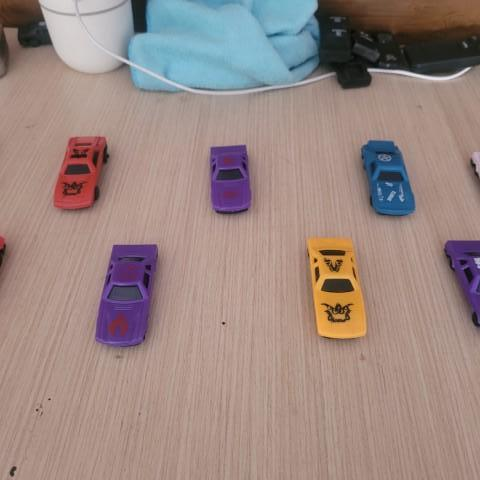car: (92, 241, 161, 352), (303, 232, 371, 344), (50, 131, 110, 209), (359, 136, 417, 216), (208, 142, 255, 216)
